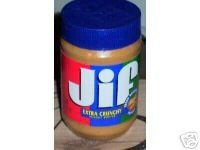grozi_108: (58, 0, 146, 142)
